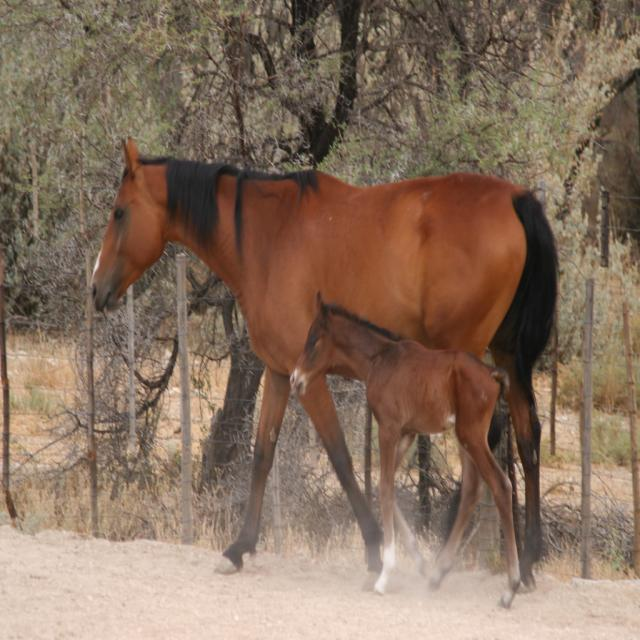Horse: (90, 135, 561, 594), (290, 292, 542, 608)
